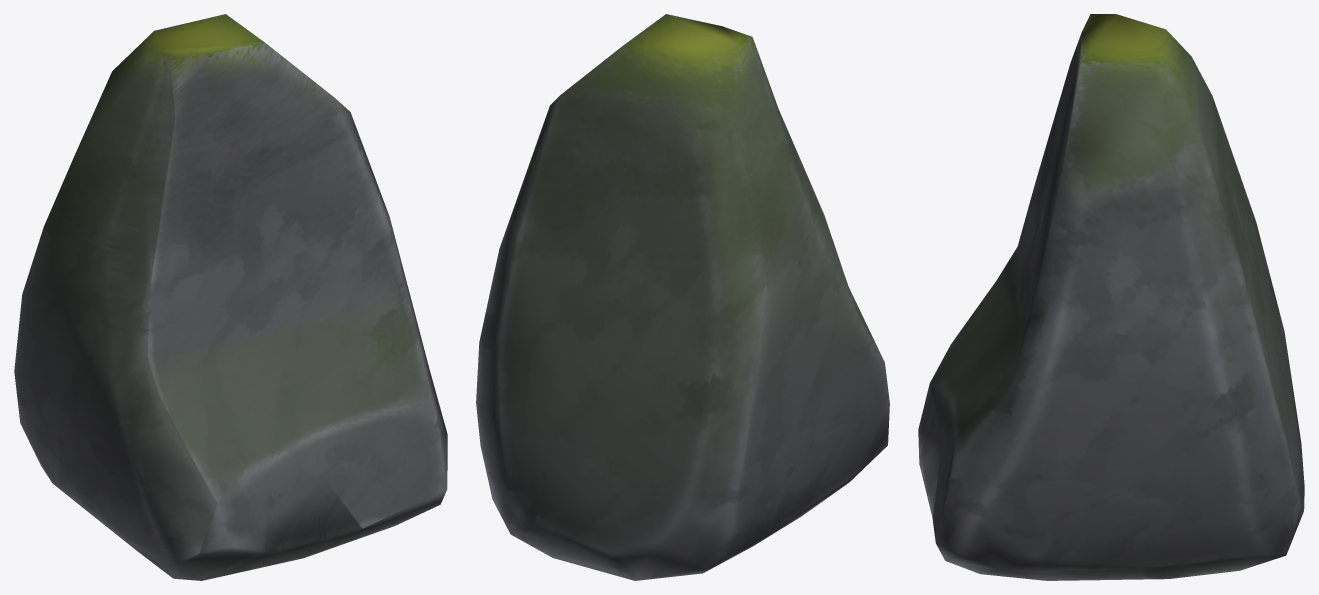
Rendered from Stone4_Moss2.fbx.
The picture shows the model from 3 angles, left to right: view 1: azimuth 30°, elevation 25°; view 2: azimuth 150°, elevation 25°; view 3: azimuth 270°, elevation 25°; orthographic projection.
Visible parts, largest first — view 1: Stone4_Moss2; view 2: Stone4_Moss2; view 3: Stone4_Moss2.
Part boxes in pixels (x1=…): Stone4_Moss2: x1=14, y1=14, x2=447, y2=580; Stone4_Moss2: x1=476, y1=14, x2=889, y2=580; Stone4_Moss2: x1=918, y1=14, x2=1304, y2=580.
Bounding box in the file's own units: 134 × 200 × 144.
1 material, 1 textured.
